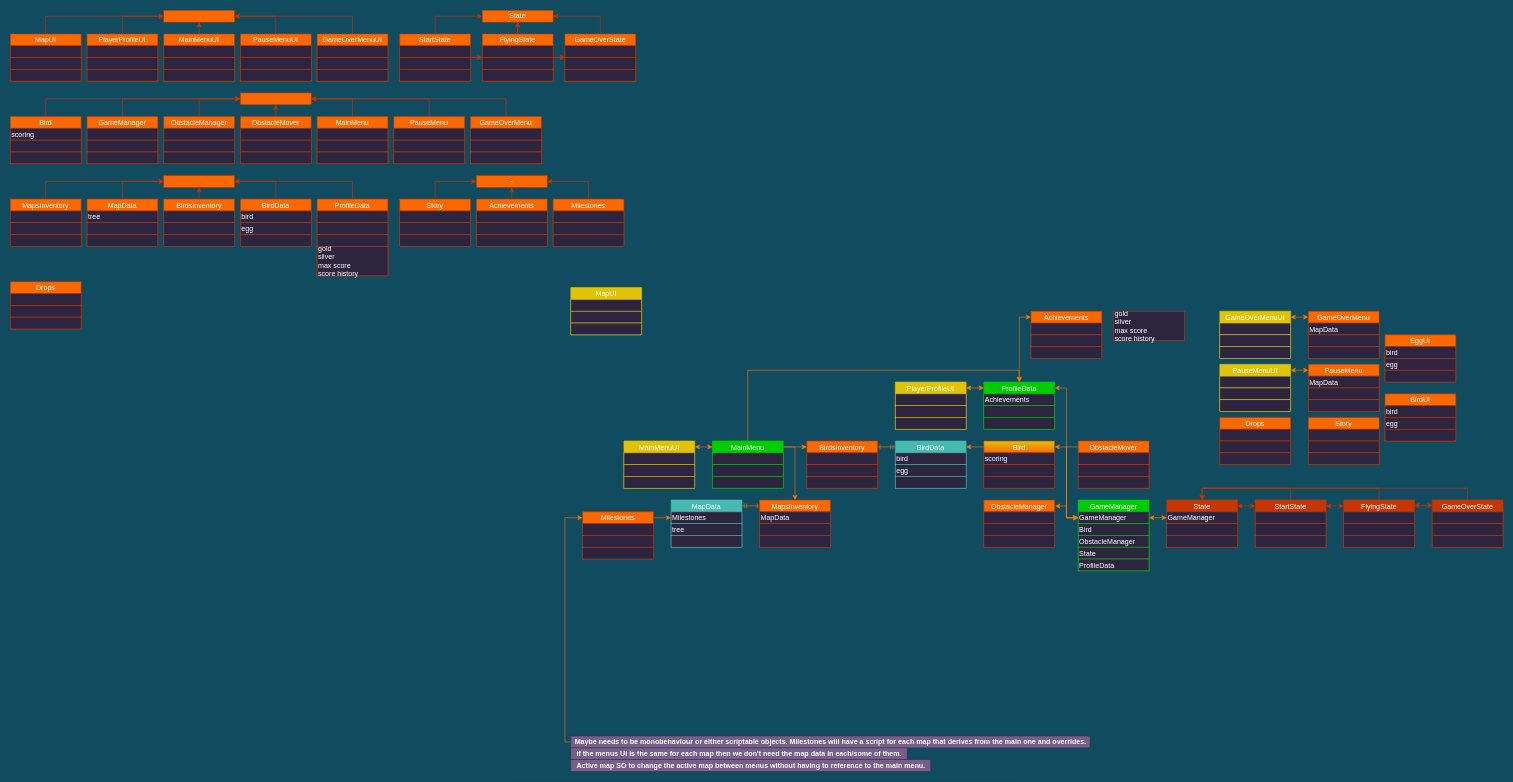
Image size: 1513x782. Some labels were removed from this diagram. The shapes that lost their labels are listed below. From the top down, each one's centre as x and y in pixels, then its label:
At [199,16]: "UI".
At [275,98]: "MonoBehaviour".
At [199,181]: "ScriptableObjects".
